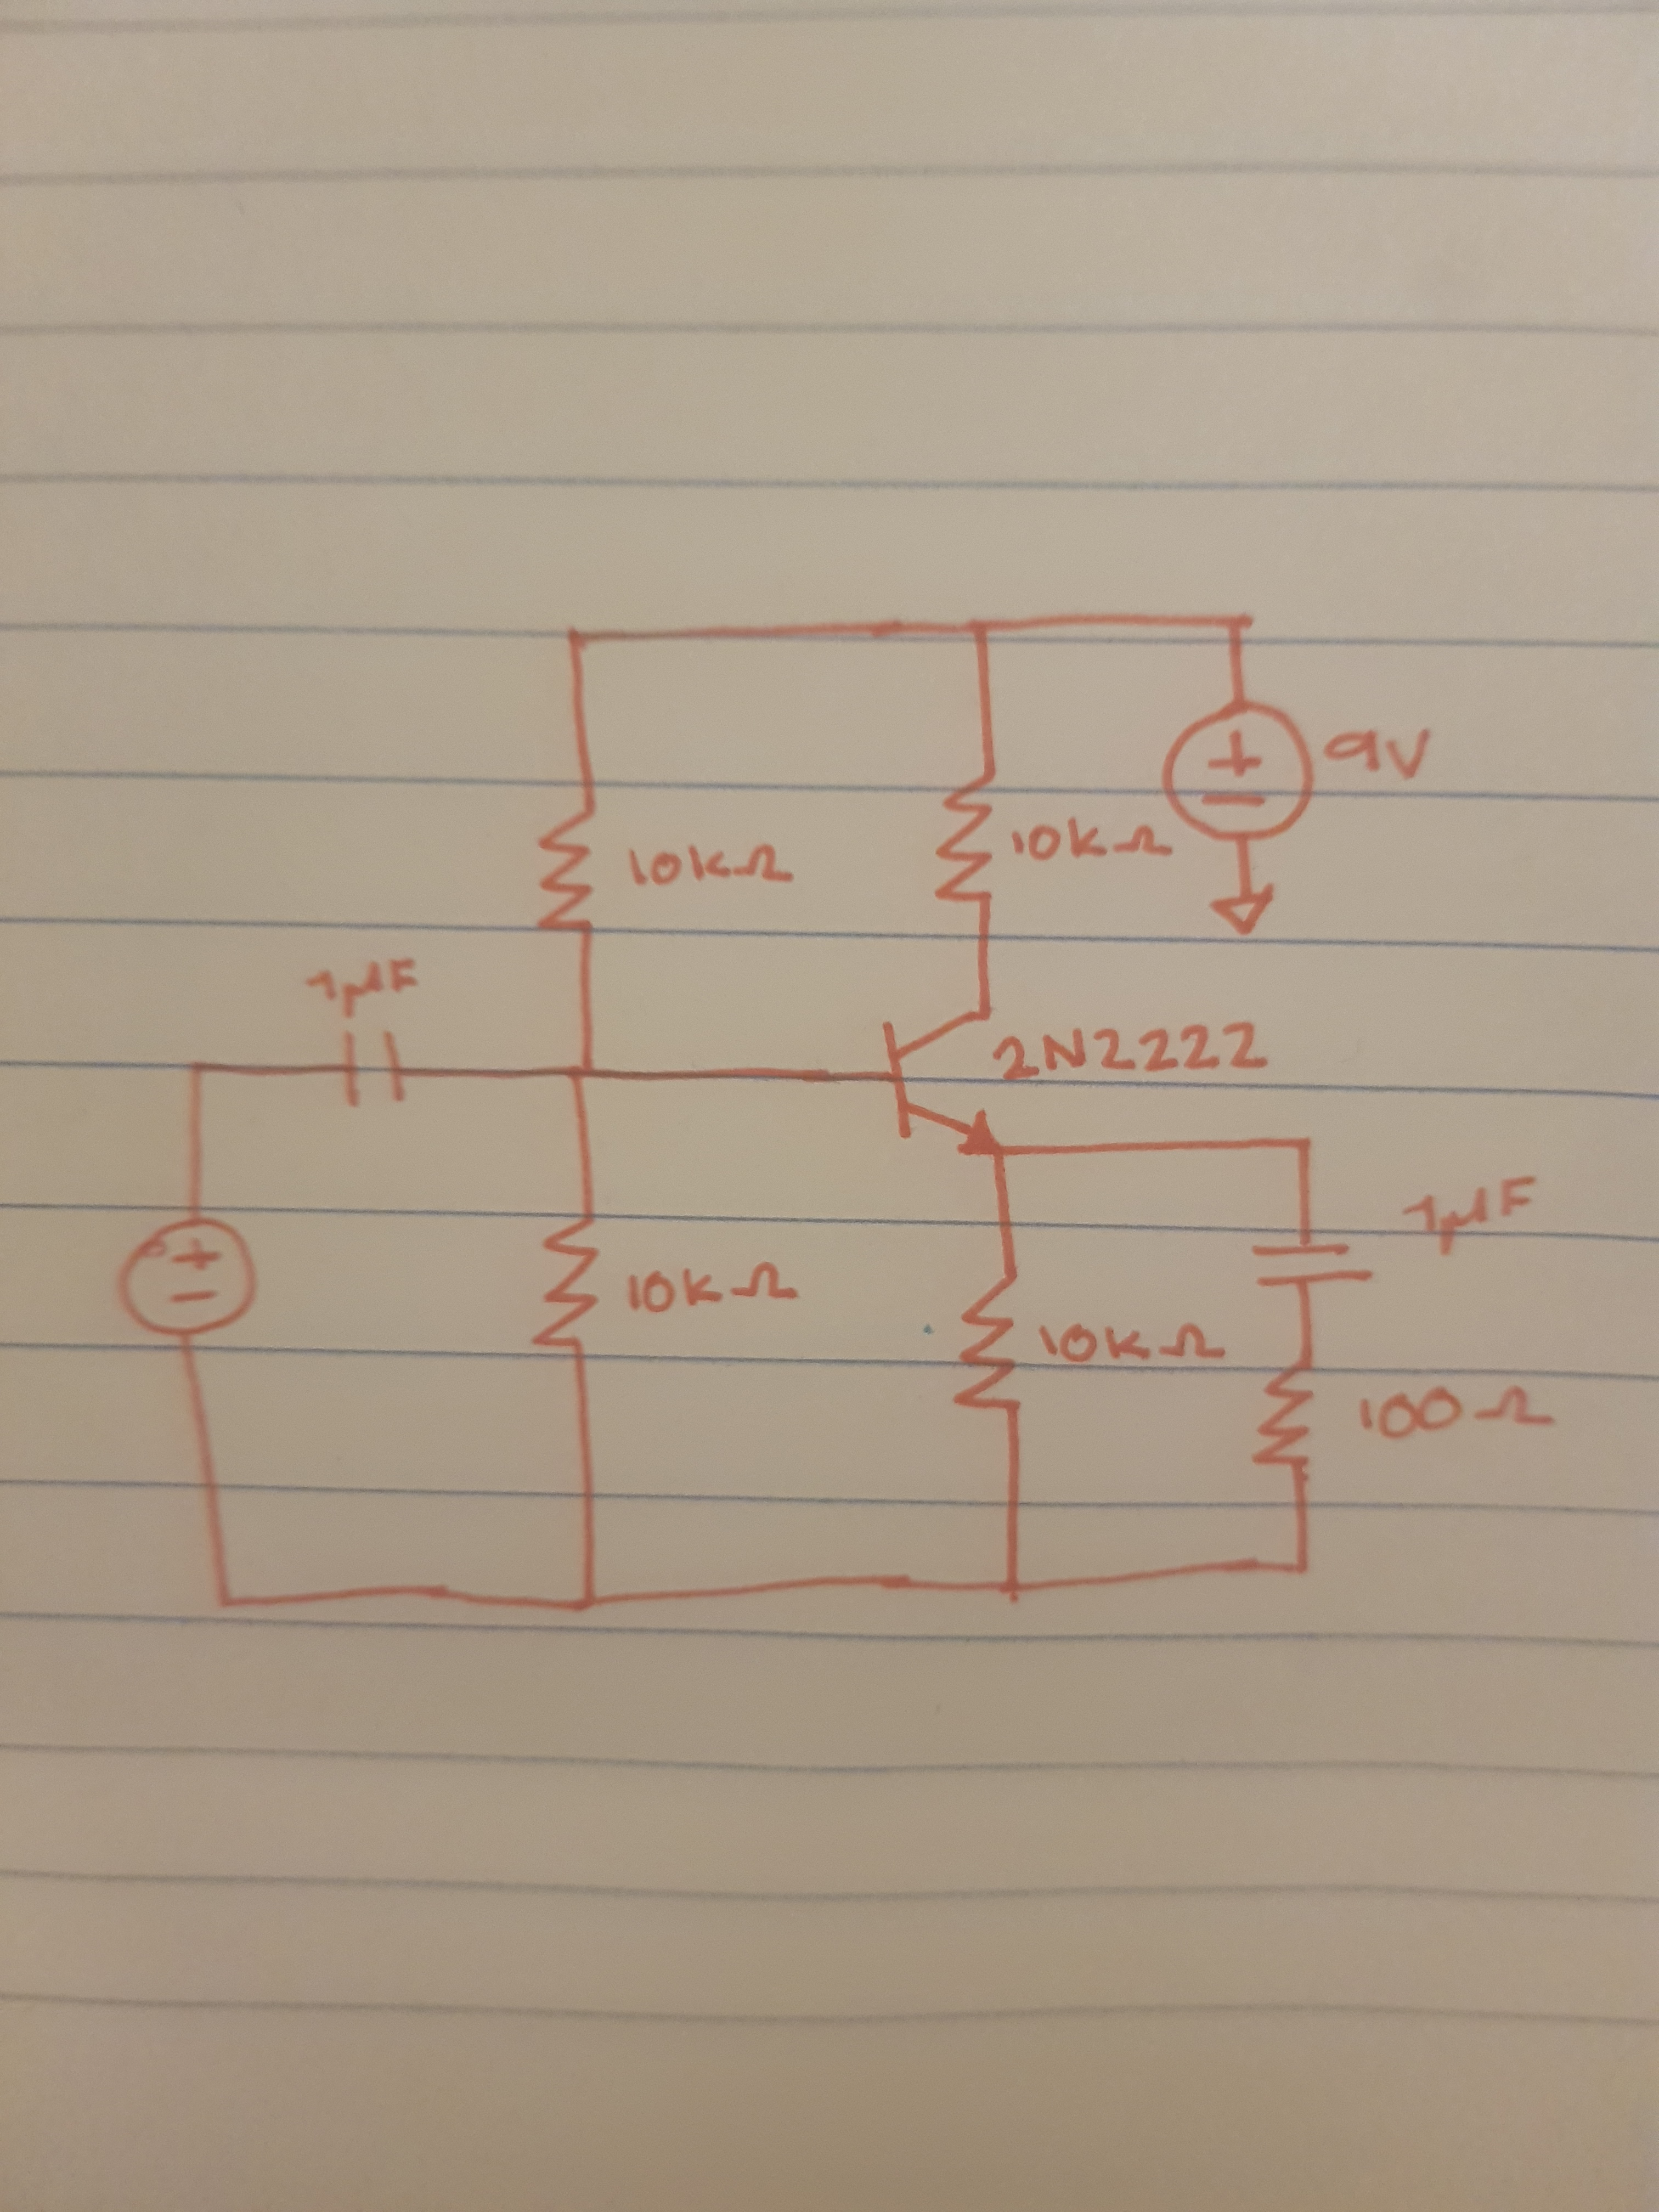capacitor.unpolarized: (1249, 1231, 1375, 1291), (336, 1024, 415, 1111)
gnd: (1204, 885, 1279, 939)
junction: (559, 618, 596, 655), (559, 1054, 598, 1087), (209, 1588, 249, 1618), (1000, 1571, 1032, 1608), (1220, 604, 1260, 632), (1288, 1130, 1317, 1158), (967, 611, 993, 643), (575, 1585, 601, 1615), (1288, 1554, 1314, 1580), (186, 1052, 209, 1082)
resistor: (946, 1271, 1023, 1418), (532, 1209, 606, 1352), (929, 766, 1004, 909), (533, 805, 608, 937), (1248, 1352, 1317, 1474)
text: (988, 1022, 1279, 1085), (1392, 1170, 1542, 1261), (1349, 1383, 1553, 1440), (1033, 1313, 1234, 1366), (626, 1263, 802, 1318), (619, 841, 800, 888), (300, 954, 423, 1019), (1317, 723, 1441, 786), (1000, 820, 1185, 860)
transistor: (878, 1003, 1014, 1162)
voltage.dc: (1161, 700, 1316, 843), (119, 1217, 258, 1336)
